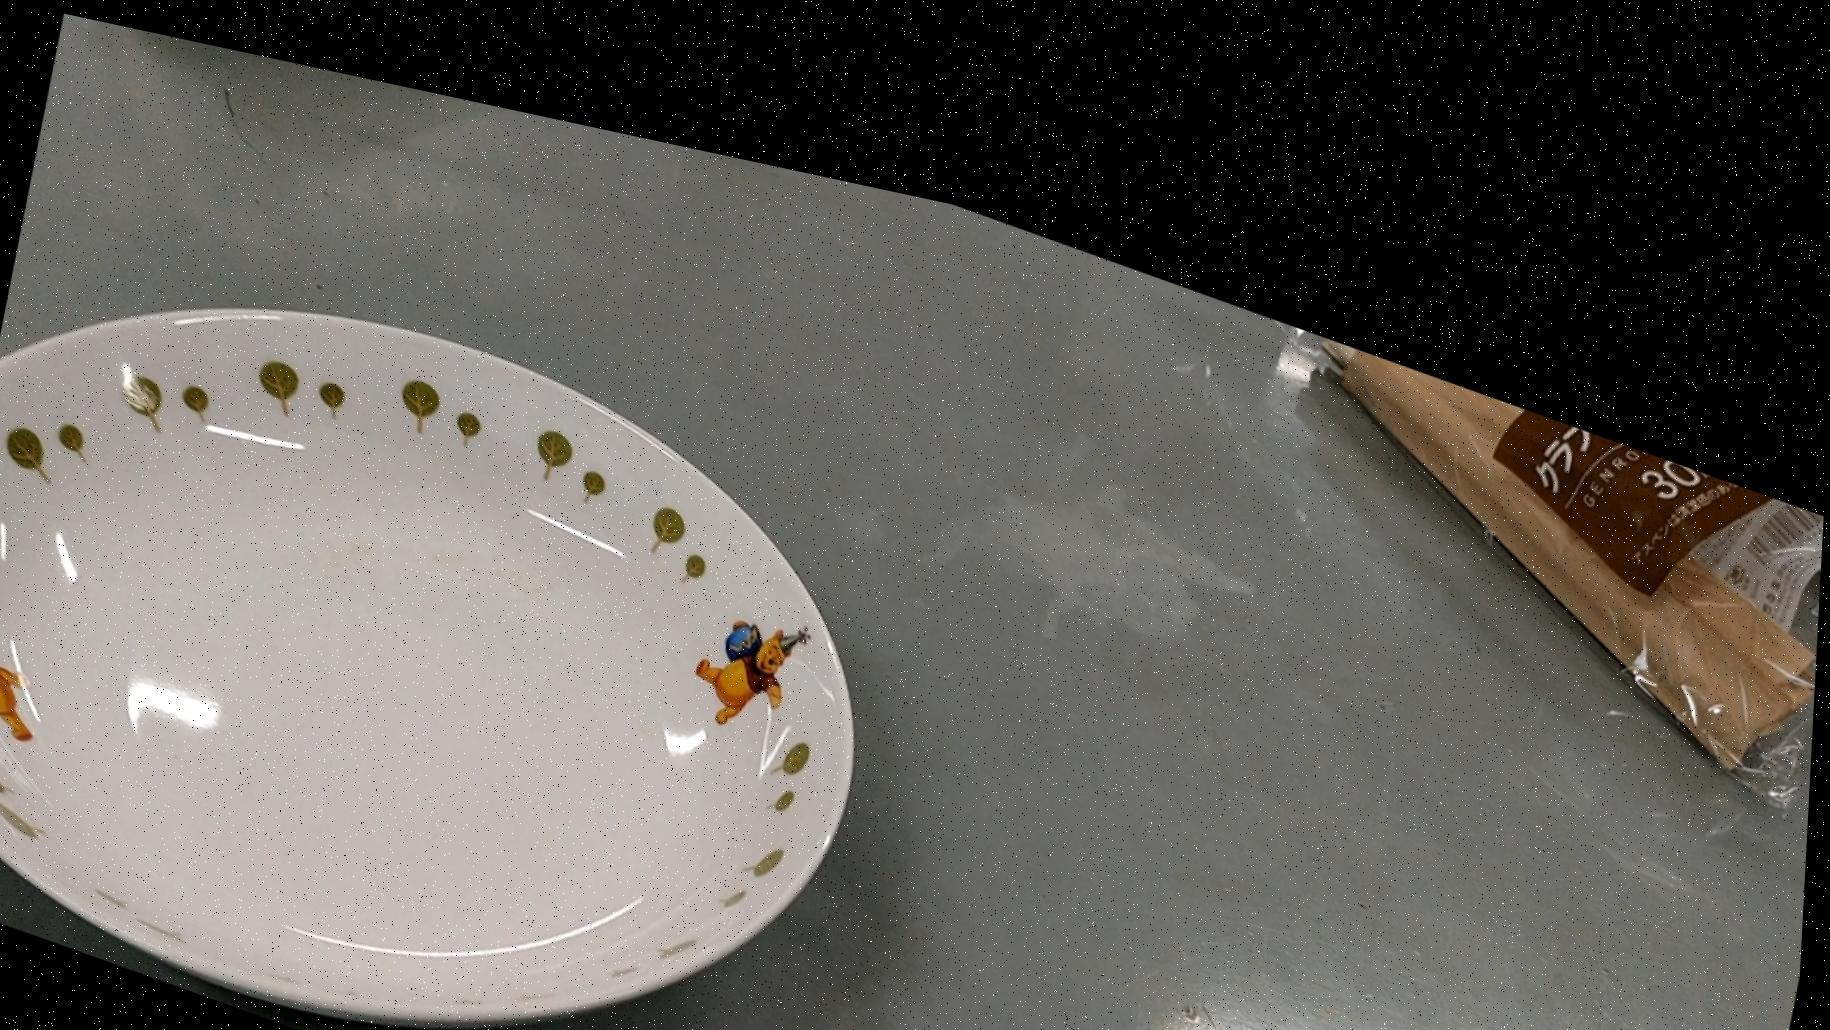plate: (0, 180, 914, 1030)
